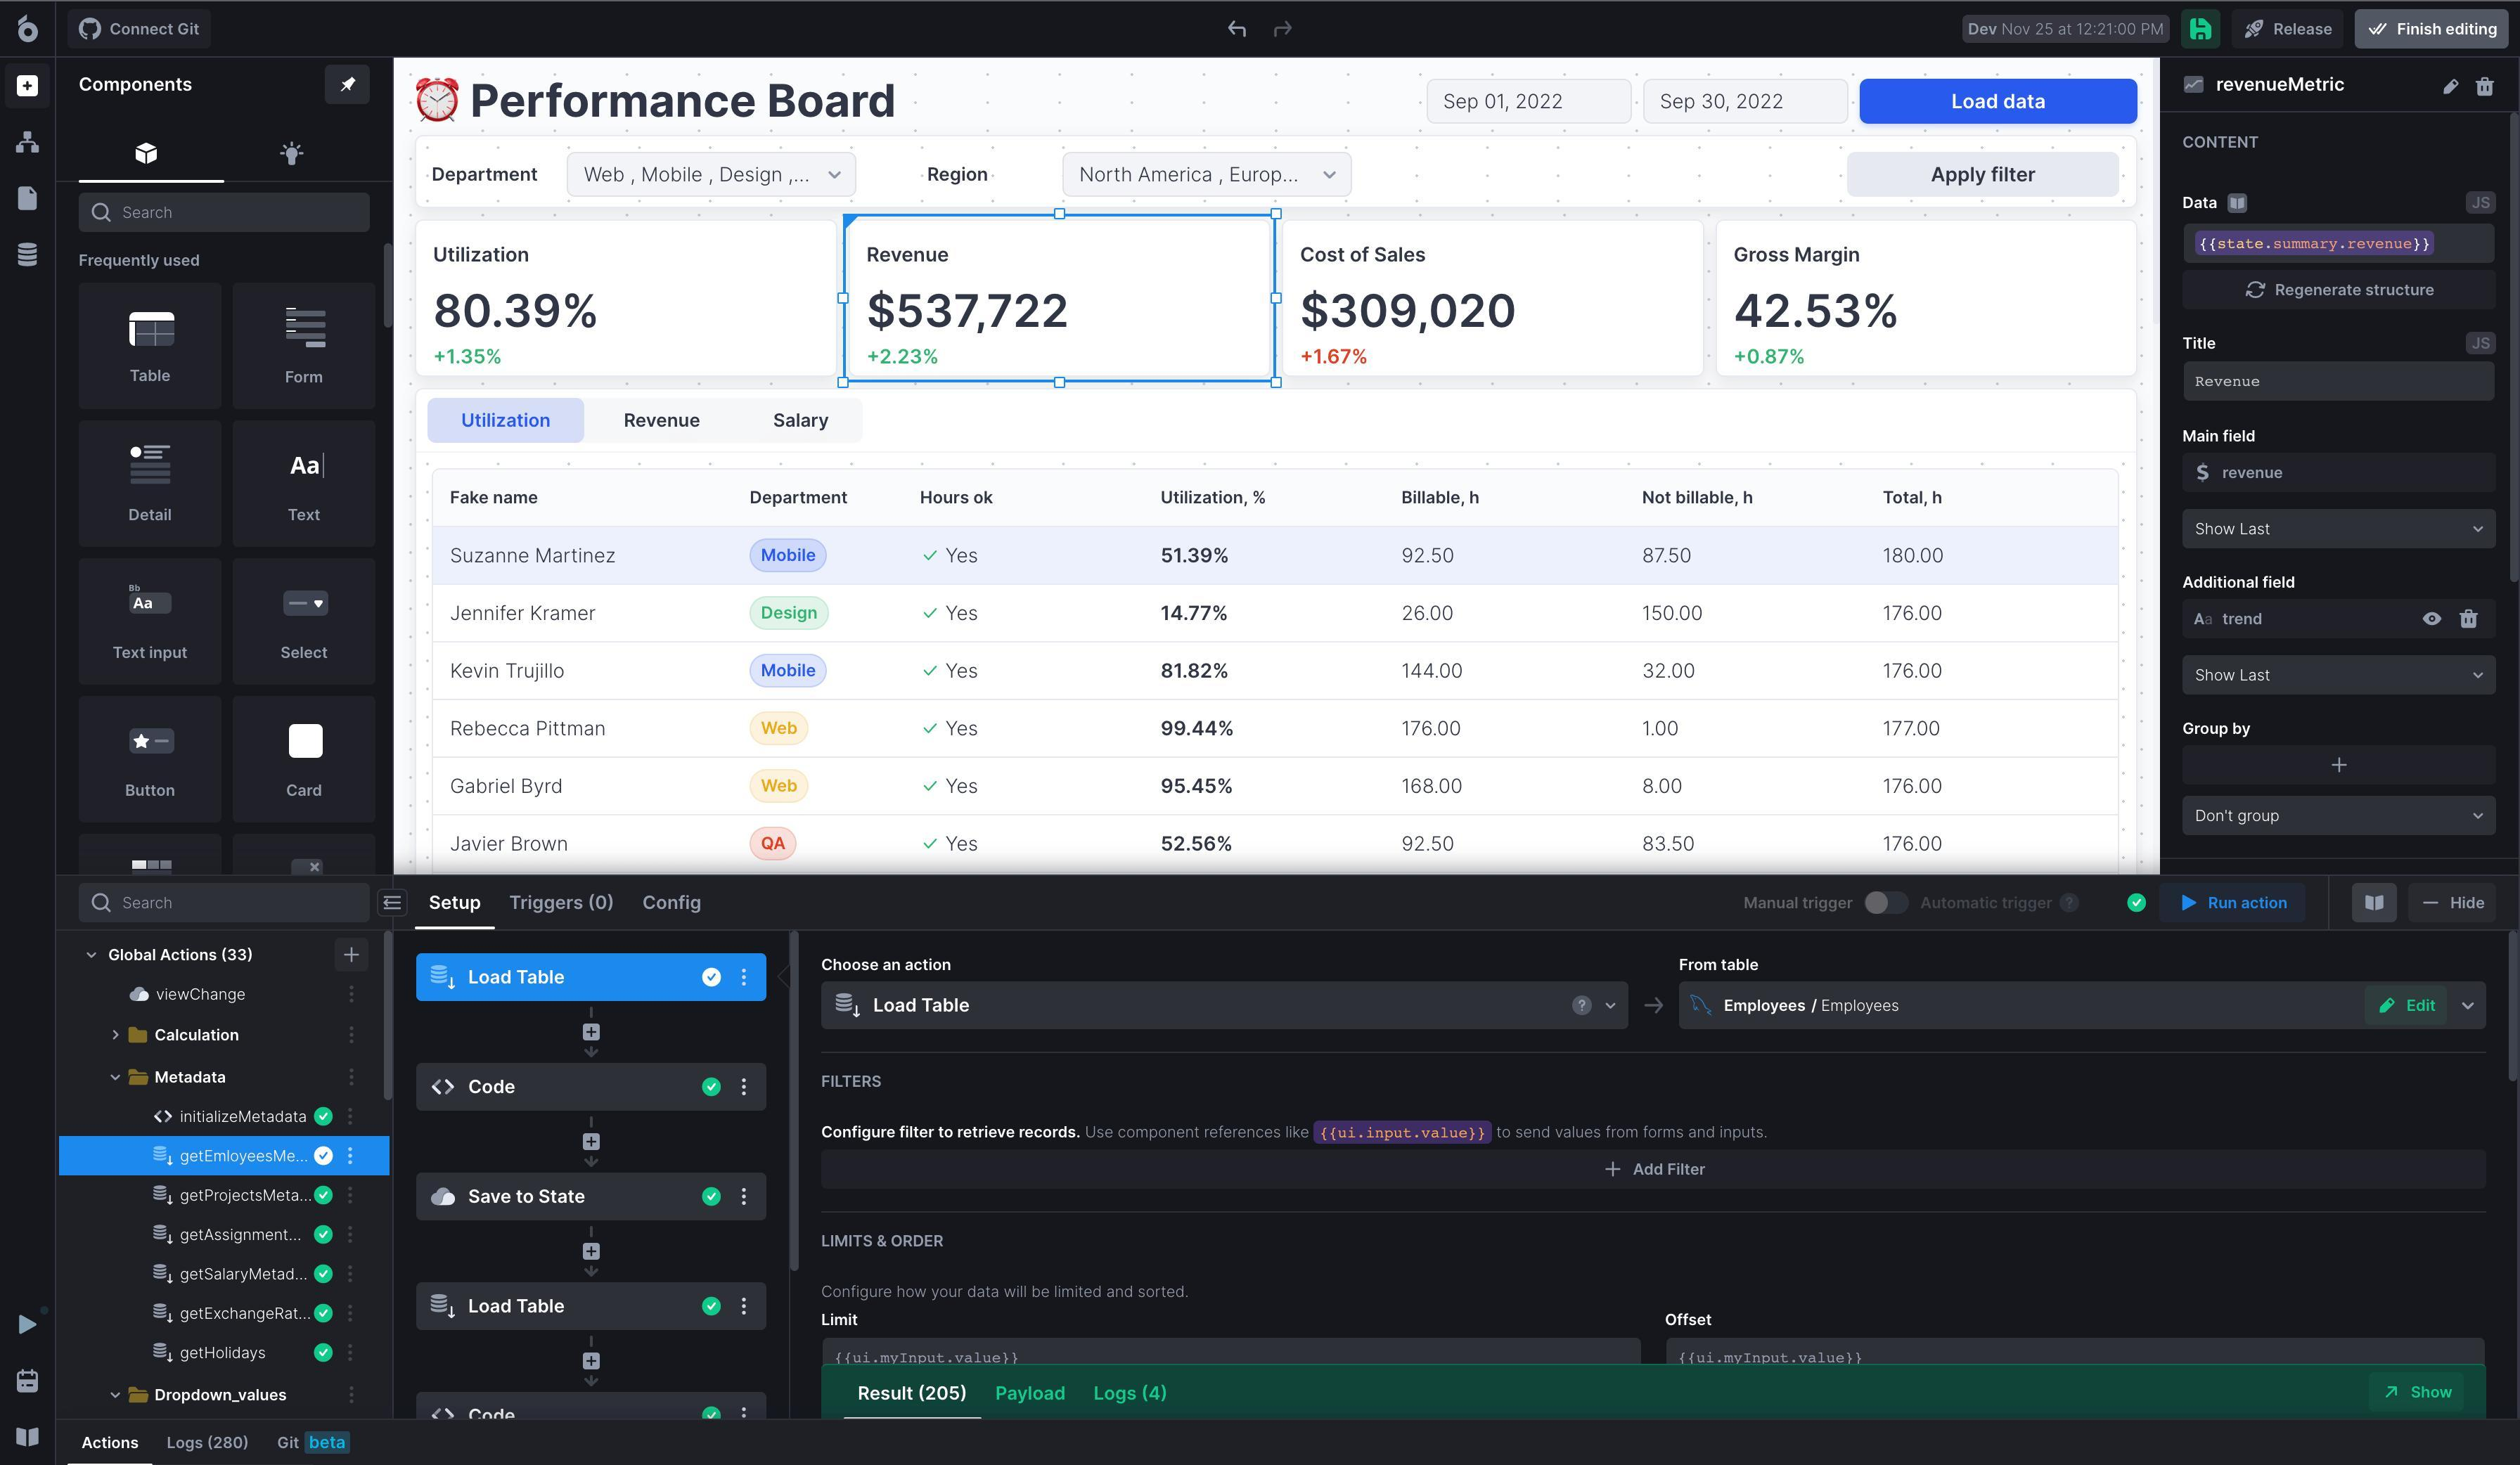button: (823, 1149, 2487, 1188), (2182, 270, 2499, 312), (1861, 78, 2140, 126), (2182, 746, 2497, 787), (1849, 152, 2121, 197), (429, 398, 584, 445), (2356, 10, 2510, 49), (2159, 884, 2305, 924), (66, 10, 213, 51), (2232, 9, 2346, 49), (2368, 1371, 2466, 1414), (2408, 884, 2497, 924), (2363, 985, 2447, 1027)
checkbox: (698, 1073, 727, 1104), (698, 964, 725, 991), (701, 1294, 725, 1322), (701, 1186, 724, 1212), (2126, 891, 2149, 916)
dropdown: (2183, 795, 2497, 837), (567, 152, 856, 197), (1064, 152, 1353, 197), (2183, 509, 2497, 549), (2183, 656, 2497, 696)
icon: (324, 65, 371, 105), (2353, 884, 2398, 923), (2182, 10, 2222, 51), (335, 937, 370, 973), (426, 959, 460, 996), (10, 124, 44, 160), (12, 181, 45, 216), (832, 991, 868, 1022), (12, 239, 44, 274), (422, 1294, 460, 1322), (14, 1366, 45, 1399), (14, 1421, 45, 1455), (14, 12, 44, 47), (378, 888, 410, 919), (427, 1186, 460, 1216), (12, 72, 44, 101), (731, 1292, 760, 1322), (432, 1073, 460, 1102), (279, 141, 307, 169), (734, 1073, 757, 1106), (14, 1313, 44, 1338), (134, 141, 160, 167), (2225, 192, 2251, 218), (1571, 994, 1594, 1020), (734, 1186, 757, 1210), (581, 1130, 603, 1155), (581, 1240, 603, 1263), (581, 1350, 603, 1373), (2060, 893, 2082, 916), (2459, 609, 2482, 631), (581, 1022, 603, 1043), (2183, 75, 2206, 96), (2476, 77, 2497, 99), (1271, 19, 1294, 40), (1228, 19, 1249, 40), (2422, 609, 2445, 628), (2442, 78, 2462, 98), (738, 966, 752, 991), (2461, 998, 2478, 1015)
input: (2183, 453, 2497, 494), (2185, 363, 2494, 403), (80, 884, 371, 924), (78, 194, 371, 232), (1643, 78, 1849, 126), (1427, 80, 1632, 124)
label: (1922, 891, 2049, 919), (1742, 891, 1856, 921), (2215, 77, 2356, 99), (467, 964, 574, 994), (872, 994, 977, 1020), (466, 1292, 569, 1319), (466, 1189, 586, 1210), (2182, 574, 2299, 593), (432, 166, 539, 187), (2178, 715, 2255, 739), (2183, 422, 2258, 446), (462, 1076, 520, 1102), (926, 166, 991, 187), (2178, 330, 2229, 354), (1660, 1306, 1714, 1327), (2176, 192, 2224, 215), (820, 1312, 865, 1331)
switch: (1866, 891, 1910, 916)
table: (432, 469, 2117, 876)
